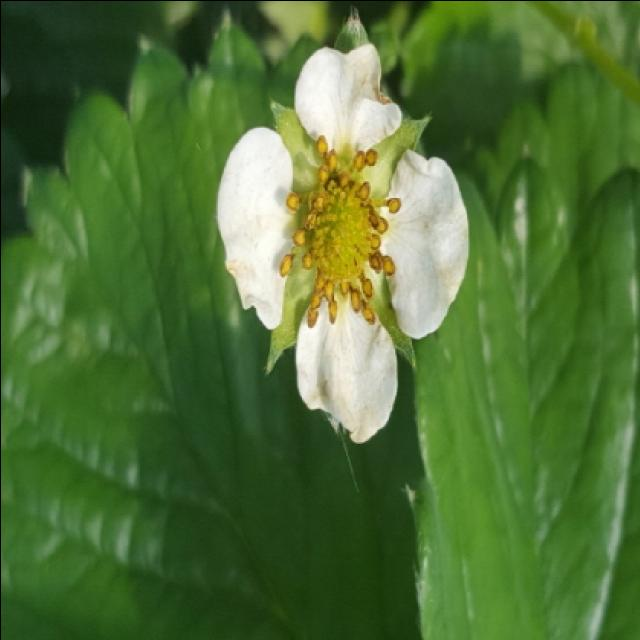Blossom Blight: (275, 132, 408, 331)
